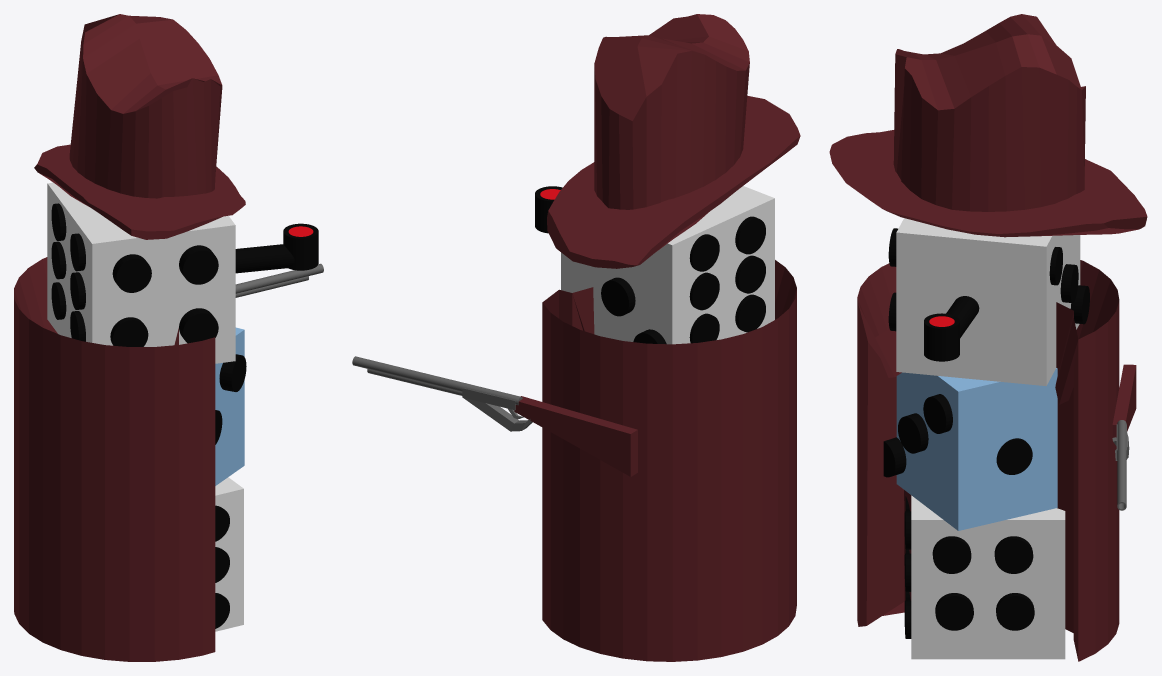
Rendered from TrenchCoat.fbx.
The picture shows the model from 3 angles, left to right: view 1: azimuth 30°, elevation 25°; view 2: azimuth 150°, elevation 25°; view 3: azimuth 270°, elevation 25°; orthographic projection. The views are drawn at different scales.
Parts seen in each view (by area): view 1: Cylinder, Cylinder.001, Cube.002, Cube.003, Cube, Cube.001, Cylinder.002, Cylinder.003, Cylinder.027, Cylinder.028, Cube.007, Cylinder.029 (+7 smaller); view 2: Cylinder, Cylinder.001, Cube.002, Cube.003, Cube.007, Cylinder.025, Cylinder.007, Cylinder.008, Cylinder.009, Cylinder.005, Cylinder.006, Cylinder.002 (+1 smaller); view 3: Cylinder, Cylinder.001, Cube.002, Cube.001, Cube, Cube.003, Cube.007, Cylinder.002, Cylinder.019, Cylinder.020, Cylinder.021, Cylinder.022 (+7 smaller).
Part boxes in pixels (x1=…): Cylinder: x1=14, y1=257, x2=215, y2=661; Cylinder.001: x1=69, y1=14, x2=222, y2=198; Cube.002: x1=47, y1=182, x2=235, y2=363; Cube.003: x1=34, y1=144, x2=245, y2=239; Cube: x1=215, y1=477, x2=243, y2=631; Cube.001: x1=215, y1=327, x2=244, y2=485; Cylinder.002: x1=283, y1=223, x2=318, y2=270; Cylinder.003: x1=235, y1=244, x2=294, y2=273; Cylinder.027: x1=179, y1=245, x2=218, y2=284; Cylinder.028: x1=112, y1=254, x2=151, y2=292; Cube.007: x1=235, y1=263, x2=323, y2=297; Cylinder.029: x1=179, y1=308, x2=218, y2=343; Cylinder: x1=542, y1=260, x2=796, y2=661; Cylinder.001: x1=594, y1=14, x2=749, y2=209; Cube.002: x1=561, y1=186, x2=774, y2=344; Cube.003: x1=547, y1=95, x2=800, y2=268; Cube.007: x1=352, y1=356, x2=637, y2=476; Cylinder.025: x1=601, y1=277, x2=635, y2=316; Cylinder.007: x1=735, y1=216, x2=765, y2=254; Cylinder.008: x1=735, y1=255, x2=765, y2=293; Cylinder.009: x1=735, y1=294, x2=765, y2=332; Cylinder.005: x1=689, y1=272, x2=719, y2=310; Cylinder.006: x1=689, y1=234, x2=719, y2=271; Cylinder.002: x1=535, y1=186, x2=562, y2=233; Cylinder: x1=857, y1=260, x2=1119, y2=661; Cylinder.001: x1=893, y1=14, x2=1085, y2=211; Cube.002: x1=896, y1=218, x2=1080, y2=386; Cube.001: x1=896, y1=368, x2=1057, y2=530; Cube: x1=911, y1=495, x2=1065, y2=659; Cube.003: x1=829, y1=130, x2=1147, y2=237; Cube.007: x1=1112, y1=364, x2=1136, y2=510; Cylinder.002: x1=924, y1=313, x2=959, y2=361; Cylinder.019: x1=932, y1=536, x2=971, y2=573; Cylinder.020: x1=994, y1=536, x2=1033, y2=573; Cylinder.021: x1=996, y1=593, x2=1034, y2=630; Cylinder.022: x1=935, y1=593, x2=973, y2=630.
Bounding box in the file's own units: 548 × 855 × 413.
